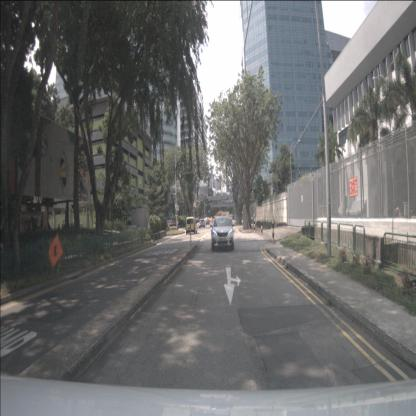human-pedestrian-adult: (57, 223, 61, 242), (70, 223, 74, 240), (44, 224, 47, 245), (62, 224, 64, 240)
vehicle-car: (210, 216, 235, 250), (186, 217, 197, 235), (192, 218, 202, 224), (199, 219, 205, 228), (206, 218, 210, 225)
vehicle-truck: (222, 212, 230, 226)
